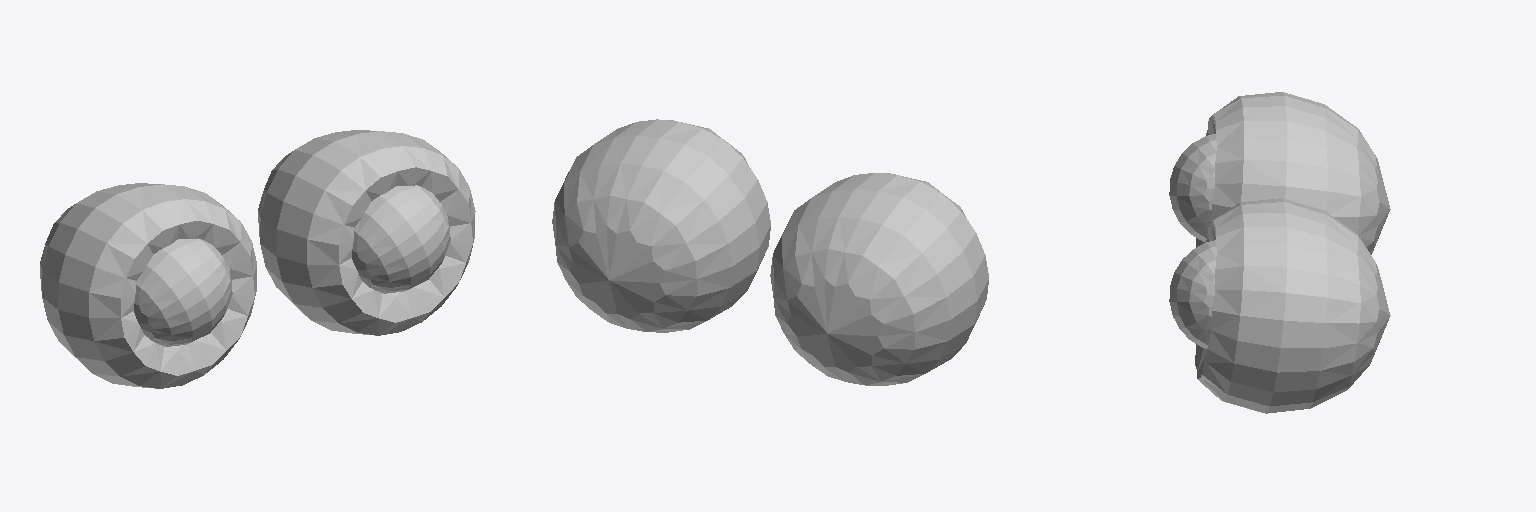
File: 2eyes.obj
3 views of the same model, side by side, from view 1: azimuth 30°, elevation 25°; view 2: azimuth 150°, elevation 25°; view 3: azimuth 270°, elevation 25° (orthographic).
Parts seen in each view (by area): view 1: polySurface2 animal:Mesh polySurface24, polySurface2 animal:Mesh polySurface14, polySurface23 polySurface2 animal:Mesh, polySurface2 animal:Mesh polySurface13; view 2: polySurface2 animal:Mesh polySurface24, polySurface2 animal:Mesh polySurface14; view 3: polySurface2 animal:Mesh polySurface14, polySurface2 animal:Mesh polySurface24, polySurface2 animal:Mesh polySurface13, polySurface23 polySurface2 animal:Mesh.
Boxes of the visible parts, box(x1,y1,x2,y2) form: polySurface2 animal:Mesh polySurface24: box(40, 183, 256, 388); polySurface2 animal:Mesh polySurface14: box(258, 130, 475, 335); polySurface23 polySurface2 animal:Mesh: box(134, 238, 232, 346); polySurface2 animal:Mesh polySurface13: box(352, 185, 450, 293); polySurface2 animal:Mesh polySurface24: box(770, 173, 988, 385); polySurface2 animal:Mesh polySurface14: box(552, 119, 770, 332); polySurface2 animal:Mesh polySurface14: box(1195, 198, 1390, 413); polySurface2 animal:Mesh polySurface24: box(1196, 92, 1390, 254); polySurface2 animal:Mesh polySurface13: box(1169, 240, 1216, 348); polySurface23 polySurface2 animal:Mesh: box(1169, 134, 1216, 241).
Size of the model in its own units: 3.97 by 1.76 by 1.87.